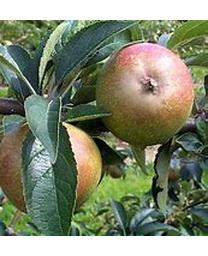apple: (96, 43, 194, 146)
